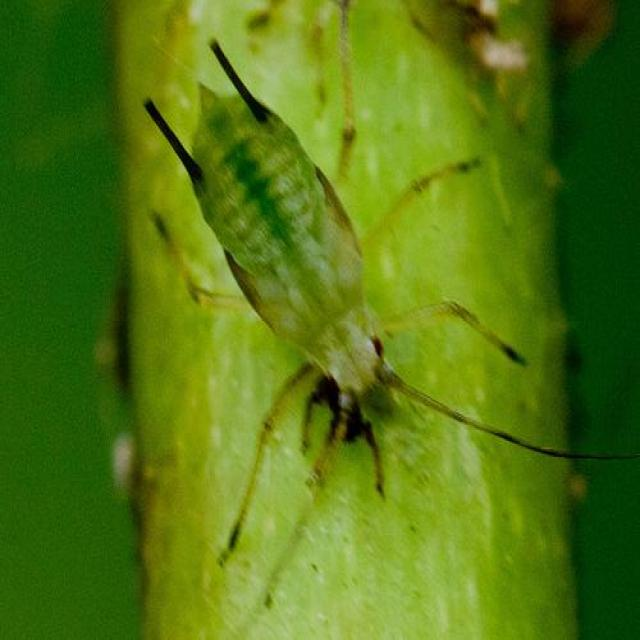Aphids: (112, 48, 572, 560)
